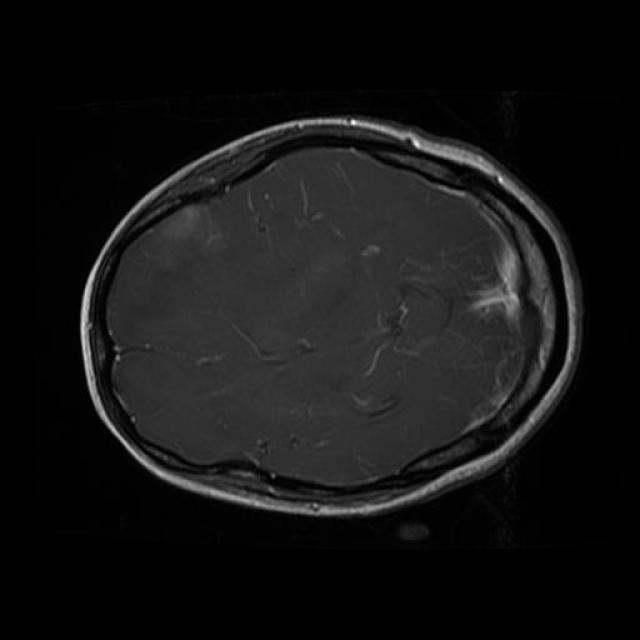Glioma: (137, 203, 215, 253)
